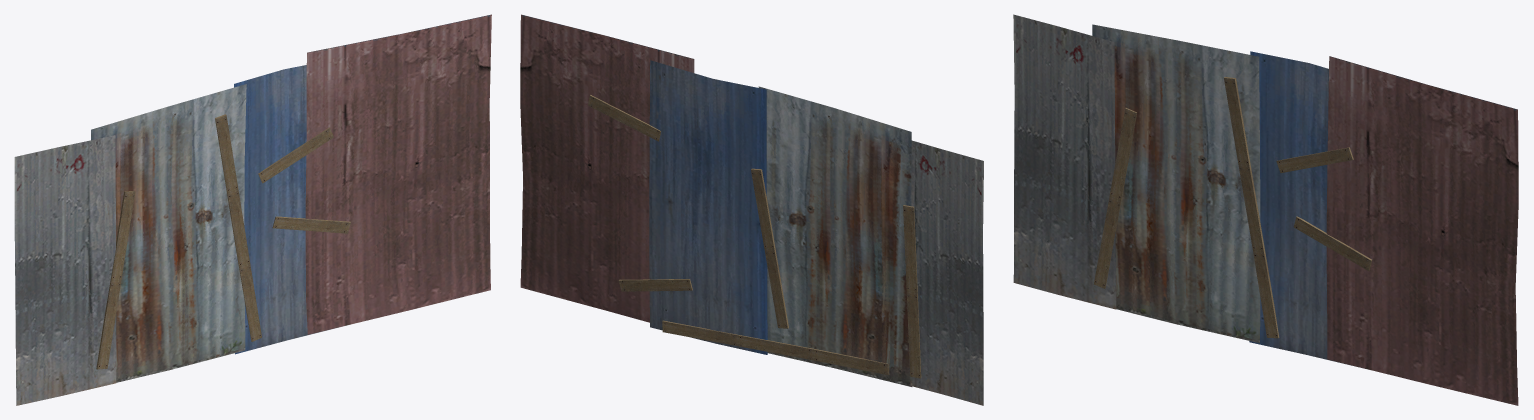
File: Prop_FenceA.glb
3 renders of one model, left to right at view 1: azimuth 30°, elevation 25°; view 2: azimuth 150°, elevation 25°; view 3: azimuth 330°, elevation 25°, orthographic. The views are drawn at different scales.
Visible parts, largest first — view 1: xiutz_fence_a; view 2: xiutz_fence_a; view 3: xiutz_fence_a.
Part boxes in pixels (x1=…): xiutz_fence_a: x1=14, y1=14, x2=491, y2=405; xiutz_fence_a: x1=520, y1=14, x2=983, y2=405; xiutz_fence_a: x1=1013, y1=14, x2=1518, y2=405.
Bounding box in the file's own units: 6.54 × 3.74 × 0.1852.
1 material, 1 textured.
